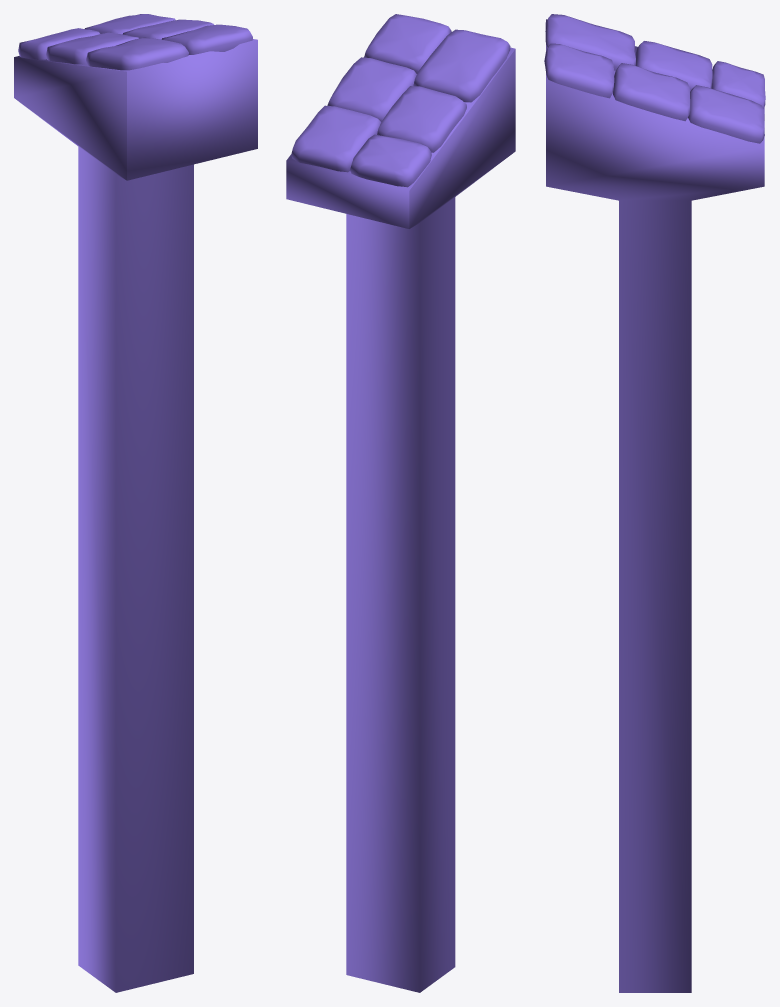
File: Tilt Bridge.fbx
3 renders of one model, left to right at view 1: azimuth 30°, elevation 25°; view 2: azimuth 150°, elevation 25°; view 3: azimuth 270°, elevation 25°, orthographic. The views are drawn at different scales.
Parts seen in each view (by area): view 1: Cube.087; view 2: Cube.087; view 3: Cube.087.
Part boxes in pixels (x1,y1,x2,y2): Cube.087: [14, 14, 257, 992]; Cube.087: [286, 14, 515, 992]; Cube.087: [544, 14, 765, 992].
Size of the model in its own units: 201 by 1414 by 304.
